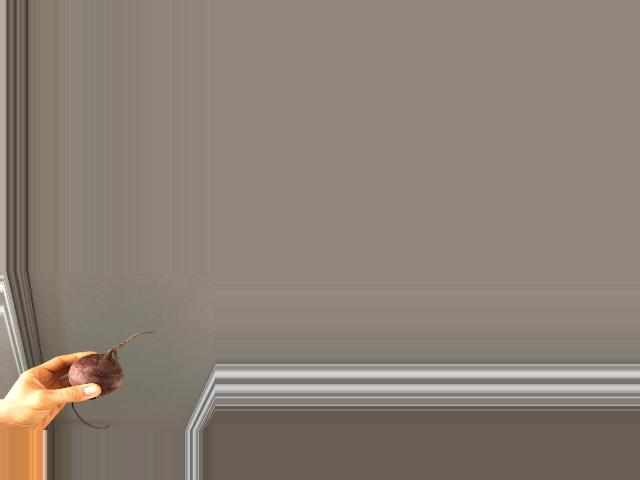beet: (69, 332, 157, 429)
